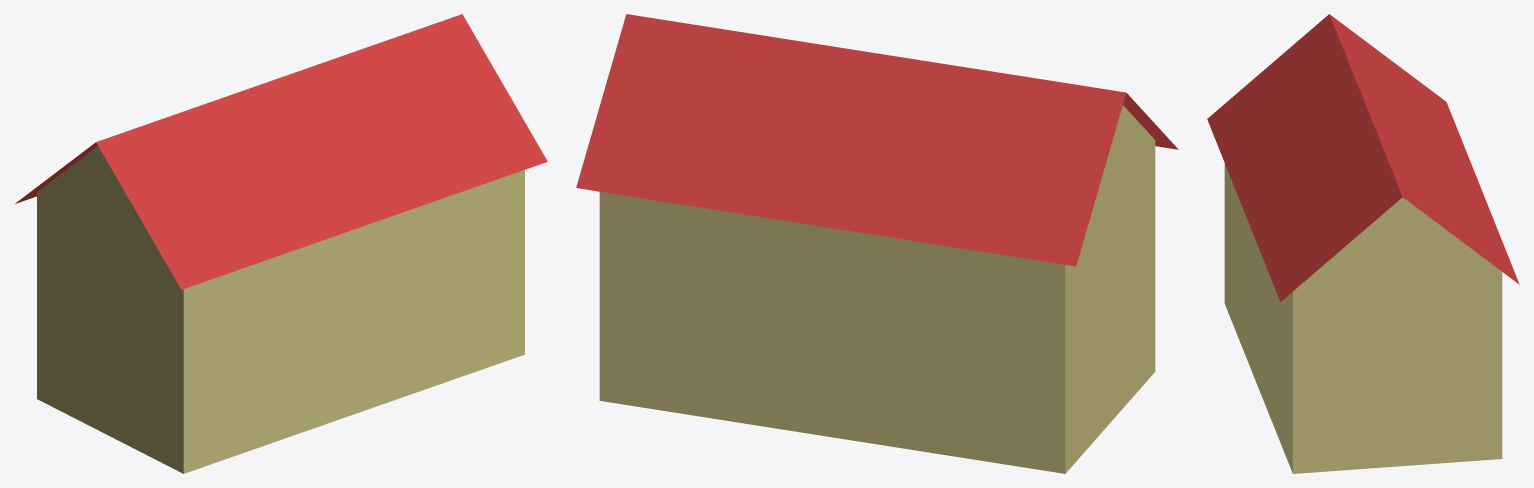
3 views of the same model, side by side, from view 1: azimuth 30°, elevation 25°; view 2: azimuth 150°, elevation 25°; view 3: azimuth 270°, elevation 25° (orthographic). The views are drawn at different scales.
Size of the model in its own units: 23.45 by 15.47 by 15.03.
